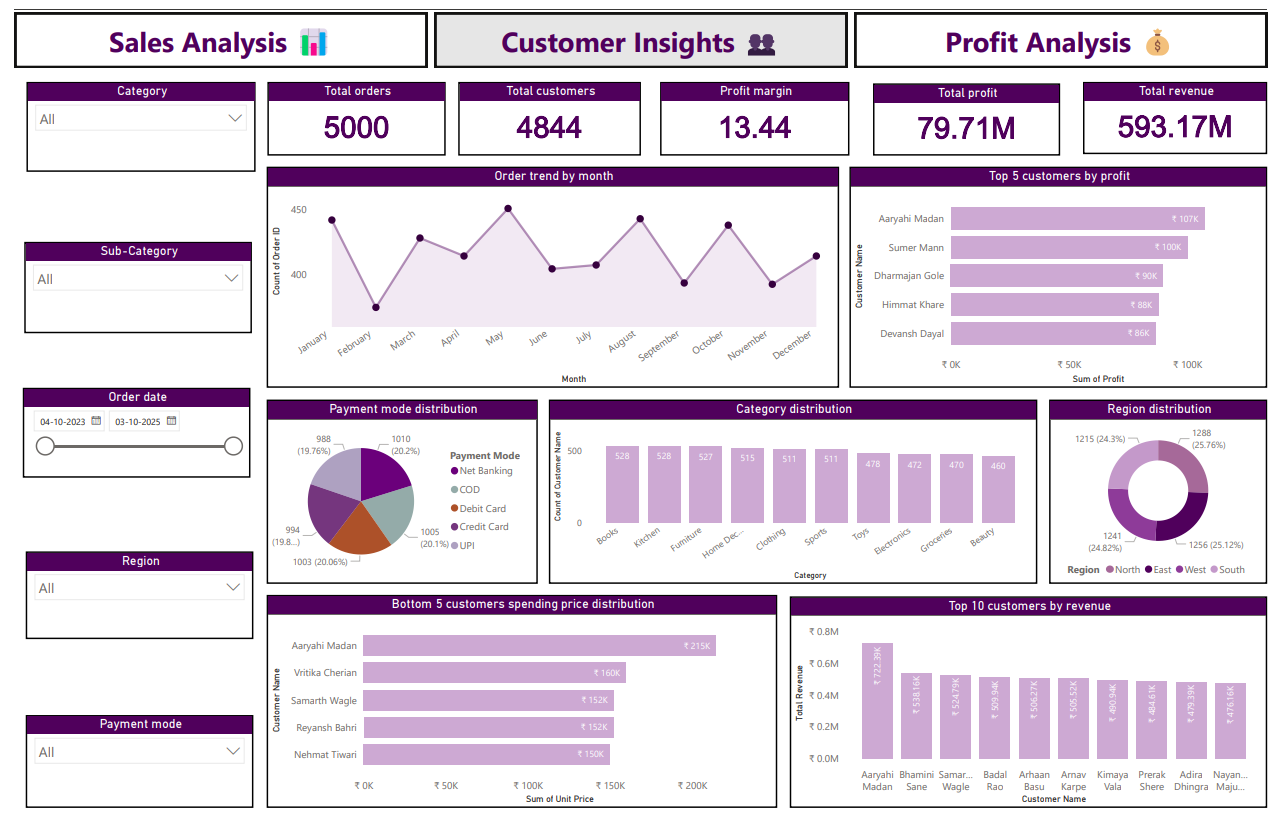

What the dashboard file says about the page in this screenshot:
{"tool":"powerbi","page":{"name":"Customer Insights 👥","canvas":[1700,1100],"ordinal":1},"visuals":[{"type":"slicer","title":"Category","fields":{"Values":["Ecommerce_Sales_Data_2024_2025.Category"]},"box":[15.6,97.8,311.1,122.2],"z":0},{"type":"slicer","title":"Sub-Category","fields":{"Values":["Ecommerce_Sales_Data_2024_2025.Sub-Category"]},"box":[13,315.2,308.7,123.9],"z":1000},{"type":"slicer","title":"Order date","fields":{"Values":["Ecommerce_Sales_Data_2024_2025.Order Date"]},"box":[10.9,513,308.7,121.7],"z":2000},{"type":"slicer","title":"Region","fields":{"Values":["Ecommerce_Sales_Data_2024_2025.Region"]},"box":[15.2,734.8,308.7,119.6],"z":3000},{"type":"slicer","title":"Payment mode","fields":{"Values":["Ecommerce_Sales_Data_2024_2025.Payment Mode"]},"box":[15.2,956.5,308.7,126.1],"z":4000},{"type":"columnChart","title":"Top 10 customers by revenue","fields":{"Category":["Ecommerce_Sales_Data_2024_2025.Customer Name"],"Y":["Ecommerce_Sales_Data_2024_2025.Total Revenue"]},"box":[1051.9,796.2,648.1,286.5],"z":5000},{"type":"pageNavigator","box":[0,3.8,1700,75],"z":6000},{"type":"card","title":"Total orders","fields":{"Values":["Count(Ecommerce_Sales_Data_2024_2025.Order ID)"]},"box":[342.6,98.1,242.6,100],"z":7000},{"type":"card","title":"Total customers","fields":{"Values":["Count(Ecommerce_Sales_Data_2024_2025.Customer Name)"]},"box":[601.9,98.1,248.1,100],"z":8000},{"type":"card","title":"Profit margin","fields":{"Values":["Ecommerce_Sales_Data_2024_2025.Profit Margin"]},"box":[875.9,98.1,257.4,100],"z":9000},{"type":"card","title":"Total profit","fields":{"Values":["Sum(Ecommerce_Sales_Data_2024_2025.Profit)"]},"box":[1164.8,100,253.7,98.1],"z":10000},{"type":"card","title":"Total revenue","fields":{"Values":["Ecommerce_Sales_Data_2024_2025.Total Revenue"]},"box":[1450,98.1,250,98.1],"z":11000},{"type":"barChart","title":"Bottom 5 customers spending price distribution","fields":{"Y":["Sum(Ecommerce_Sales_Data_2024_2025.Unit Price)"],"Category":["Ecommerce_Sales_Data_2024_2025.Customer Name"]},"box":[342.3,794.2,692.3,288.5],"z":12000},{"type":"pieChart","title":"Payment mode distribution","fields":{"Category":["Ecommerce_Sales_Data_2024_2025.Payment Mode"],"Y":["CountNonNull(Ecommerce_Sales_Data_2024_2025.Customer Name)"]},"box":[342.3,528.8,367.3,250],"z":13000},{"type":"donutChart","title":"Region distribution","fields":{"Category":["Ecommerce_Sales_Data_2024_2025.Region"],"Y":["CountNonNull(Ecommerce_Sales_Data_2024_2025.Customer Name)"]},"box":[1403.8,528.8,296.2,250],"z":14000},{"type":"columnChart","title":"Category distribution","fields":{"Category":["Ecommerce_Sales_Data_2024_2025.Category"],"Y":["CountNonNull(Ecommerce_Sales_Data_2024_2025.Customer Name)"]},"box":[725,528.8,663.5,250],"z":15000},{"type":"clusteredBarChart","title":"Top 5 customers by profit","fields":{"Category":["Ecommerce_Sales_Data_2024_2025.Customer Name"],"Y":["Sum(Ecommerce_Sales_Data_2024_2025.Profit)"]},"box":[1132.7,213.5,567.3,300],"z":16000},{"type":"lineChart","title":"Order trend by month","fields":{"Category":["Ecommerce_Sales_Data_2024_2025.Order Date.Variation.Date Hierarchy.Month"],"Y":["CountNonNull(Ecommerce_Sales_Data_2024_2025.Order ID)"]},"box":[342.3,213.5,776.9,300],"z":17000}]}

Visuals, with their boxes in screenshot pixels (x1, y1, x2, y2), scaled from the page's 1700x1100 canvas onto the 1283x824 screenshot:
"Category" slicer: (12, 73, 247, 165)
"Sub-Category" slicer: (10, 236, 243, 329)
"Order date" slicer: (8, 384, 241, 475)
"Region" slicer: (11, 550, 244, 640)
"Payment mode" slicer: (11, 717, 244, 811)
"Top 10 customers by revenue" columnChart: (794, 596, 1282, 811)
pageNavigator: (0, 3, 1282, 59)
"Total orders" card: (259, 73, 442, 148)
"Total customers" card: (454, 73, 642, 148)
"Profit margin" card: (661, 73, 855, 148)
"Total profit" card: (879, 75, 1071, 148)
"Total revenue" card: (1094, 73, 1282, 147)
"Bottom 5 customers spending price distribution" barChart: (258, 595, 781, 811)
"Payment mode distribution" pieChart: (258, 396, 536, 583)
"Region distribution" donutChart: (1059, 396, 1282, 583)
"Category distribution" columnChart: (547, 396, 1048, 583)
"Top 5 customers by profit" clusteredBarChart: (855, 160, 1282, 385)
"Order trend by month" lineChart: (258, 160, 845, 385)
